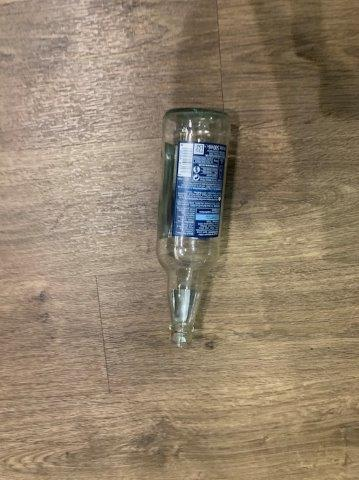botolkaca: (156, 109, 230, 348)
